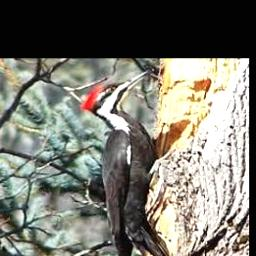Woodpecker: (82, 71, 177, 256)
